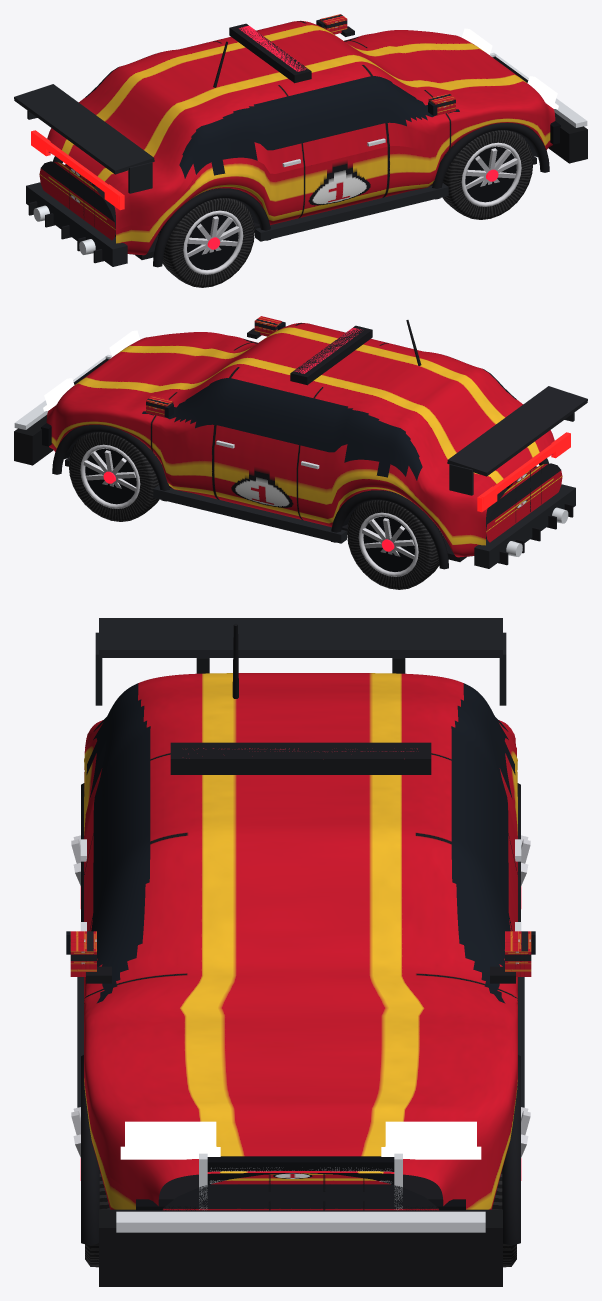
3 views of the same model, one above another, from view 1: azimuth 30°, elevation 25°; view 2: azimuth 150°, elevation 25°; view 3: azimuth 270°, elevation 25° (orthographic). The views are drawn at different scales.
Parts seen in each view (by area): view 1: body, wheel_3, wheel_1; view 2: body, wheel_2, wheel_0; view 3: body, wheel_0, wheel_1.
Part boxes in pixels (<box>): body: <box>14,14,587,267</box>; wheel_3: <box>158,188,254,287</box>; wheel_1: <box>442,130,533,219</box>; body: <box>14,316,587,569</box>; wheel_2: <box>347,490,443,589</box>; wheel_0: <box>68,432,159,521</box>; body: <box>66,618,535,1286</box>; wheel_0: <box>492,1107,530,1267</box>; wheel_1: <box>71,1107,109,1267</box>.
Size of the model in its own units: 5.12 by 2.1 by 2.16.
Materials: 14 (2 with a texture image).
